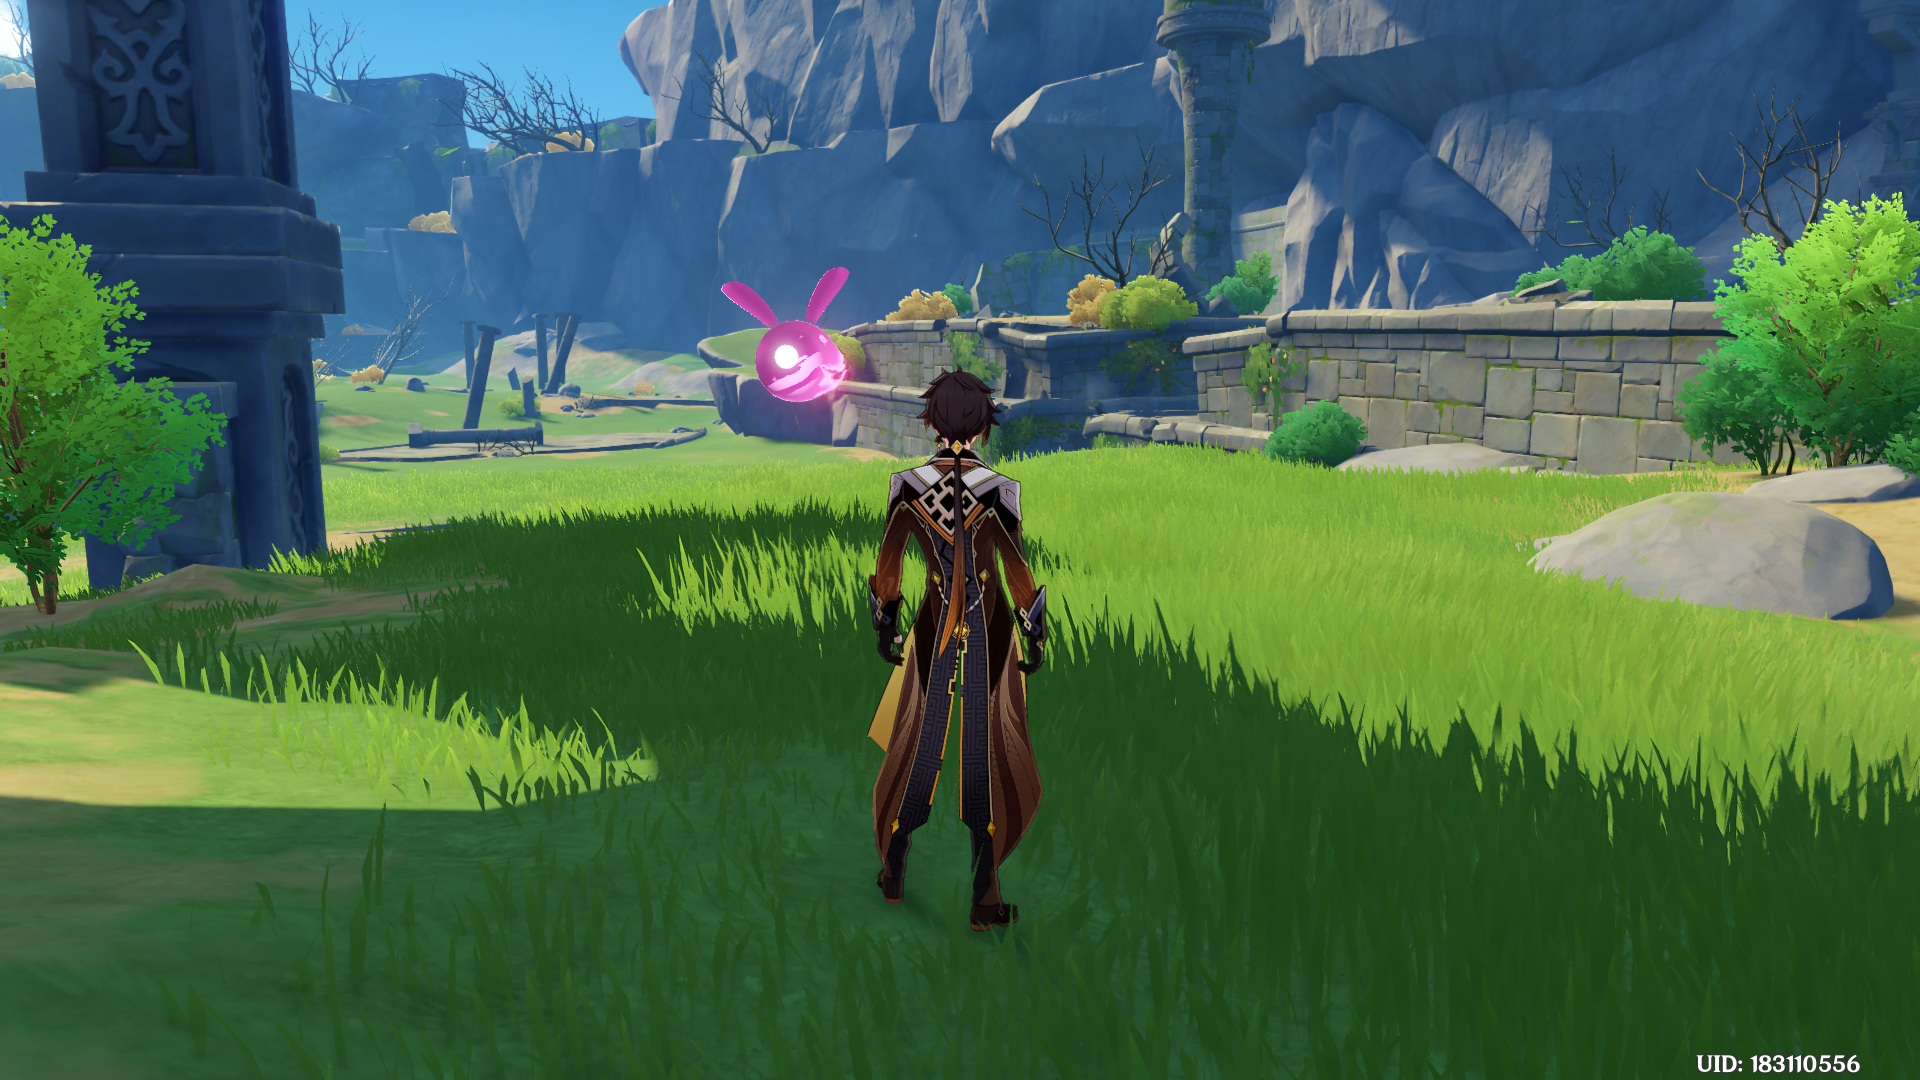character: (815, 348, 1120, 981)
